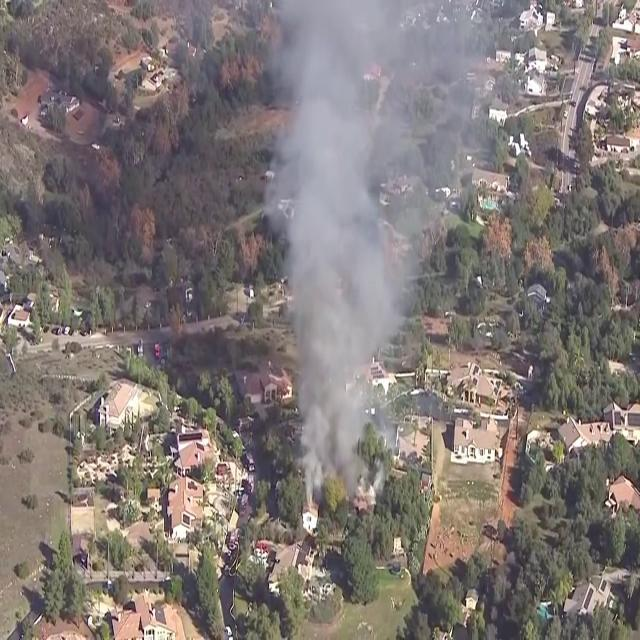Smoke: (255, 0, 428, 497)
